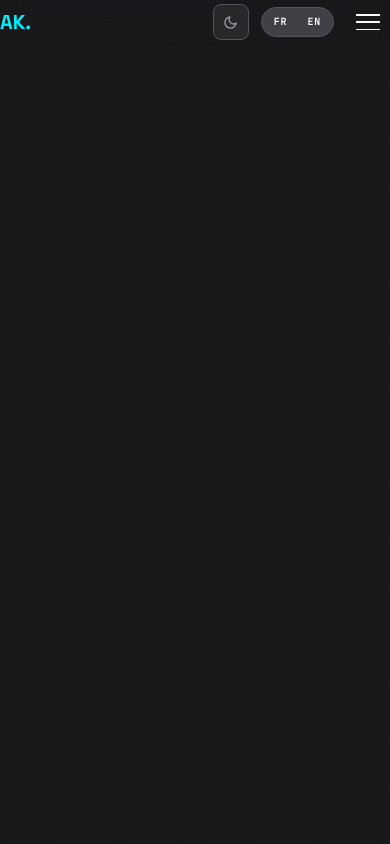
Scenario: Navbar — mobile menu › clicking the hamburger opens the mobile menu
The image size is (390, 844).
Click the button named "ouvrir le menu": (368, 22) [346,0,389,44]
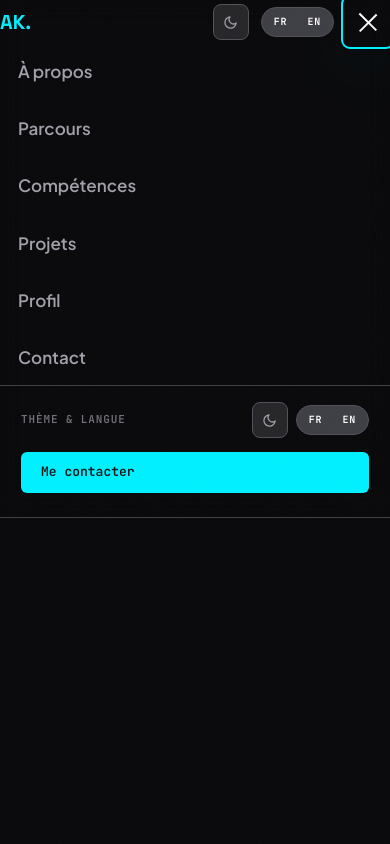
Result: the navigation bar named "menu principal" is shown at [0,44,389,517]
